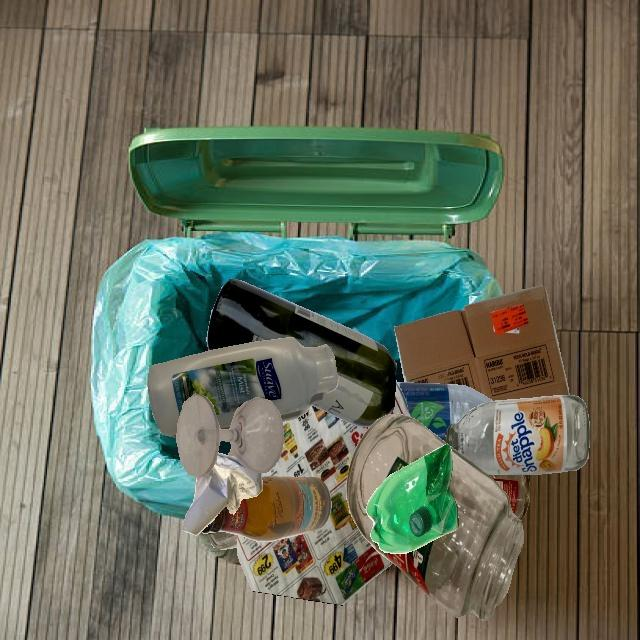cardboard: (394, 285, 570, 401), (228, 446, 237, 458)
glass: (346, 413, 524, 621), (206, 278, 397, 427), (445, 395, 590, 475), (177, 393, 284, 478), (201, 476, 332, 542), (488, 475, 529, 521), (208, 531, 237, 549)
paper: (237, 405, 393, 605), (182, 452, 263, 536)
plastic: (147, 337, 338, 437), (366, 444, 459, 554), (397, 382, 493, 442)
